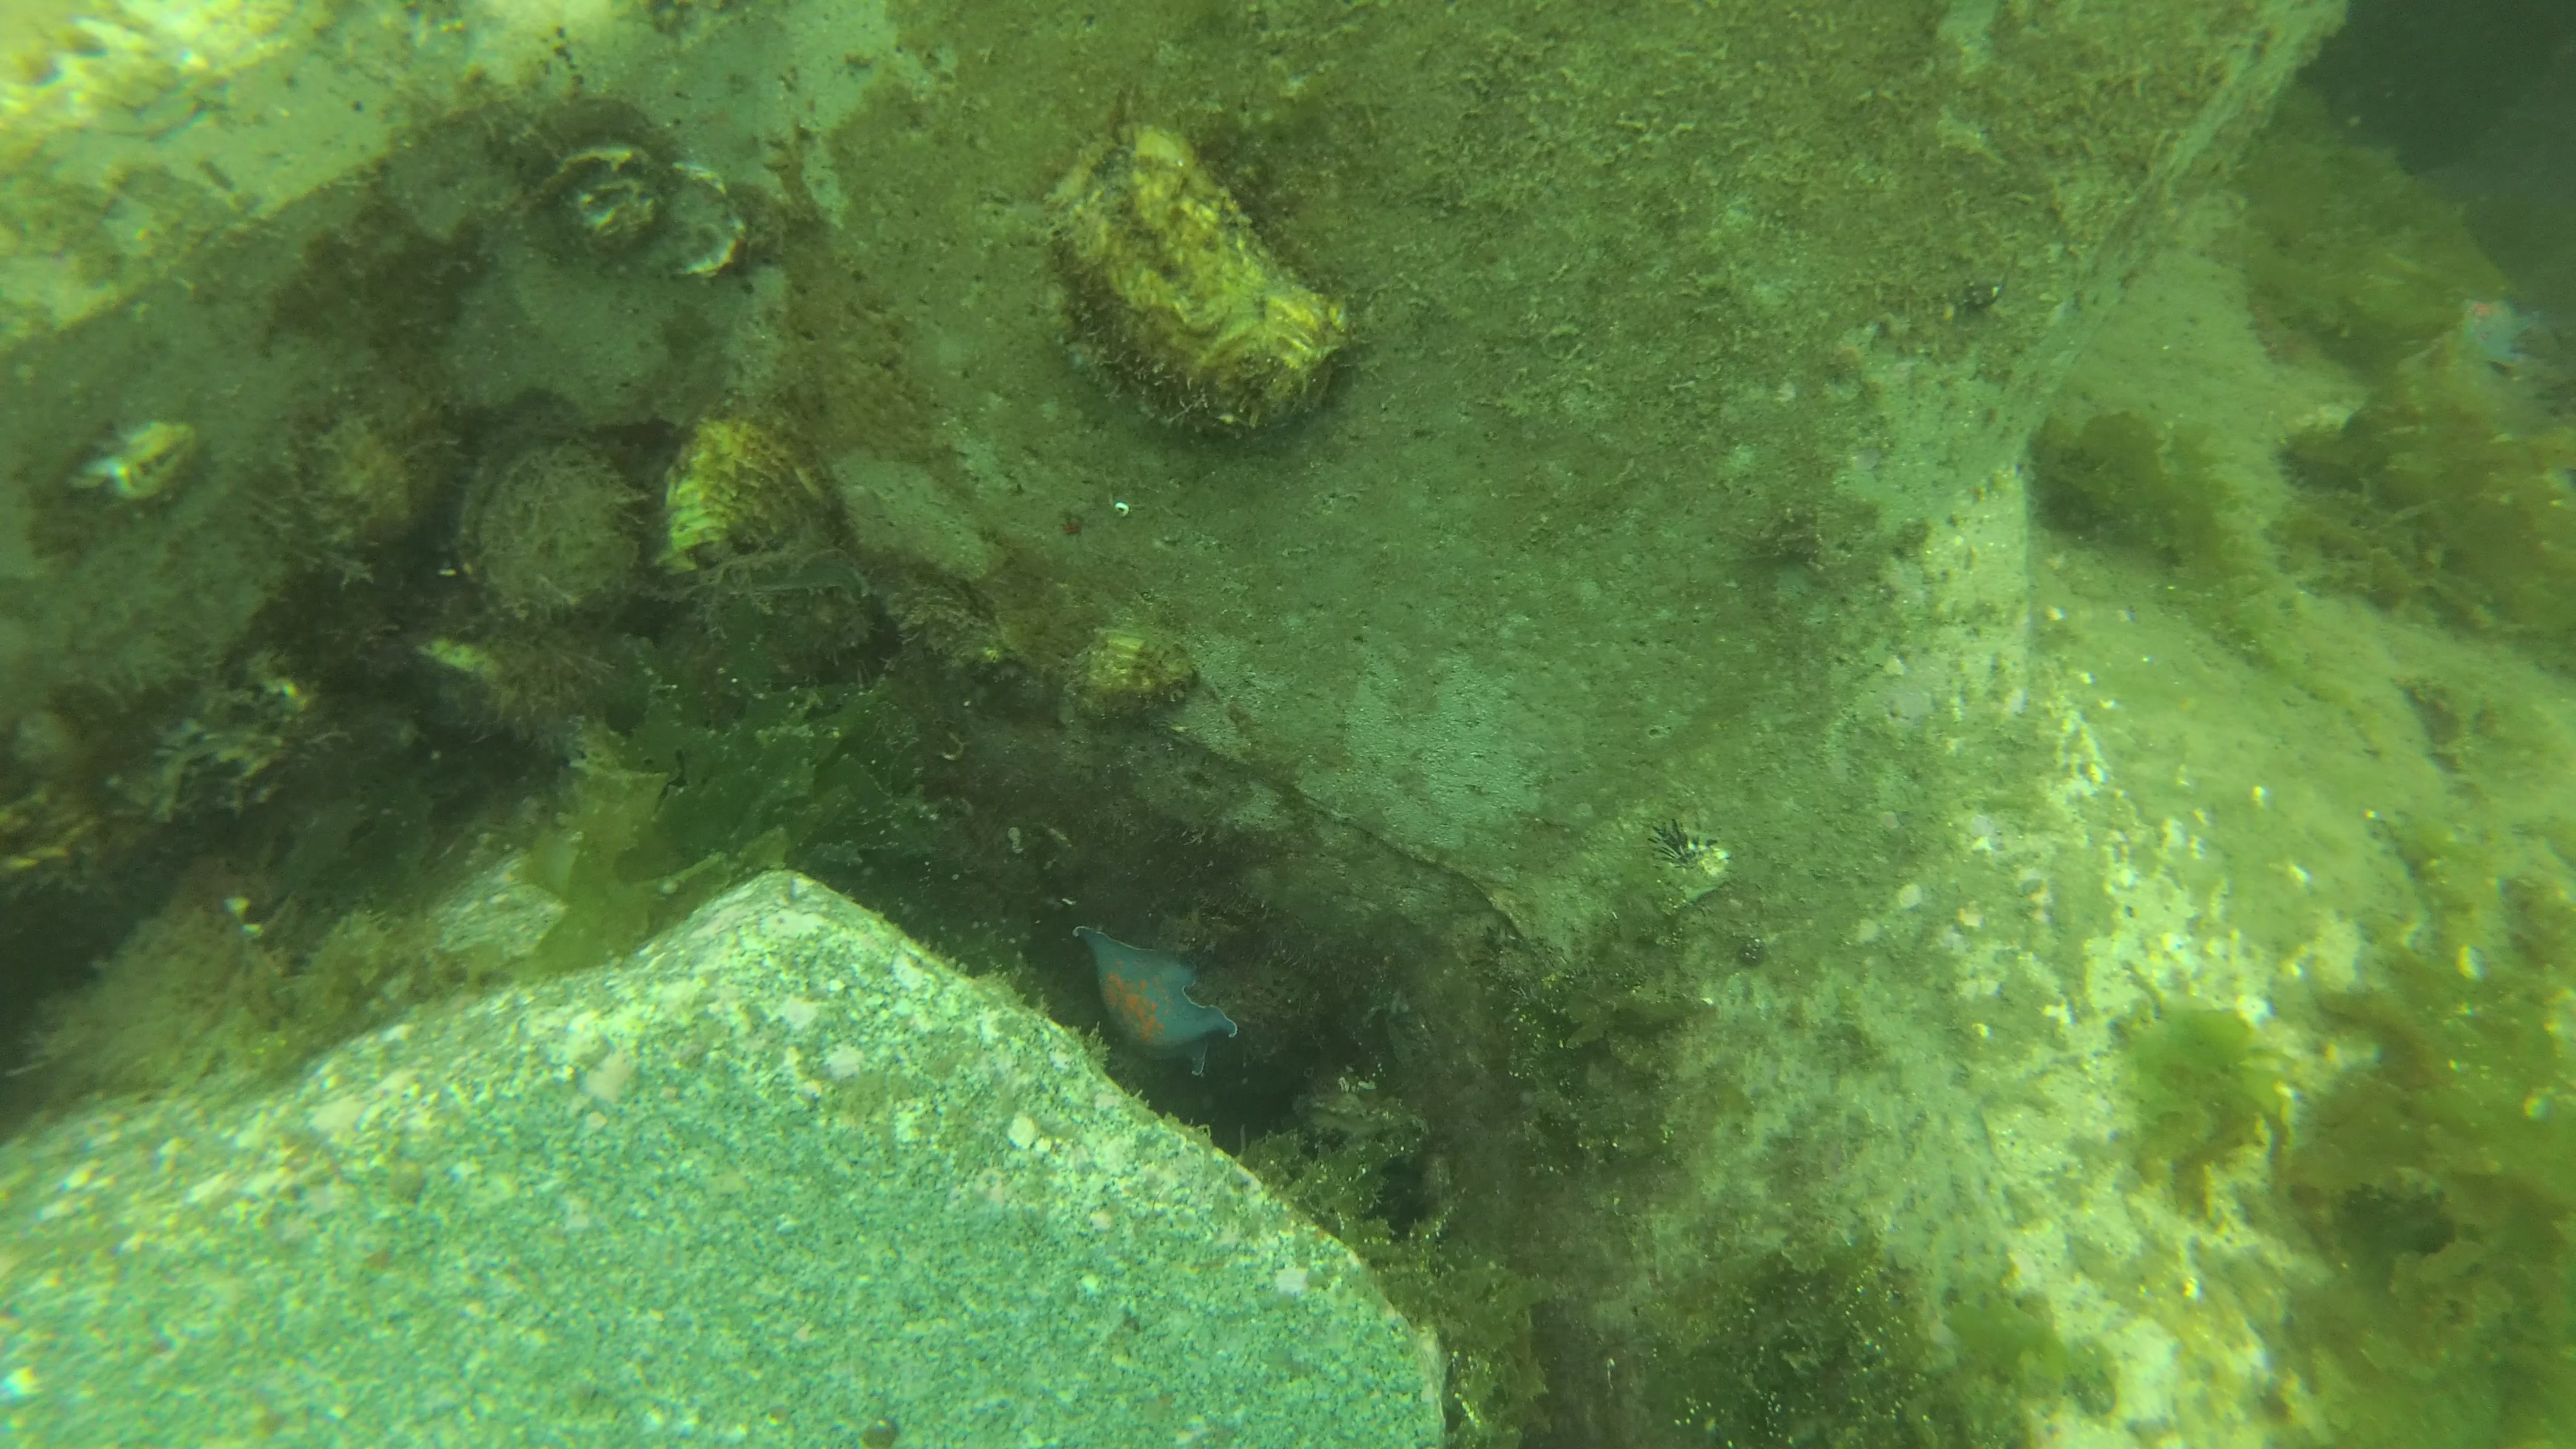starfish: (1067, 916, 1240, 1081), (2459, 292, 2539, 373)
